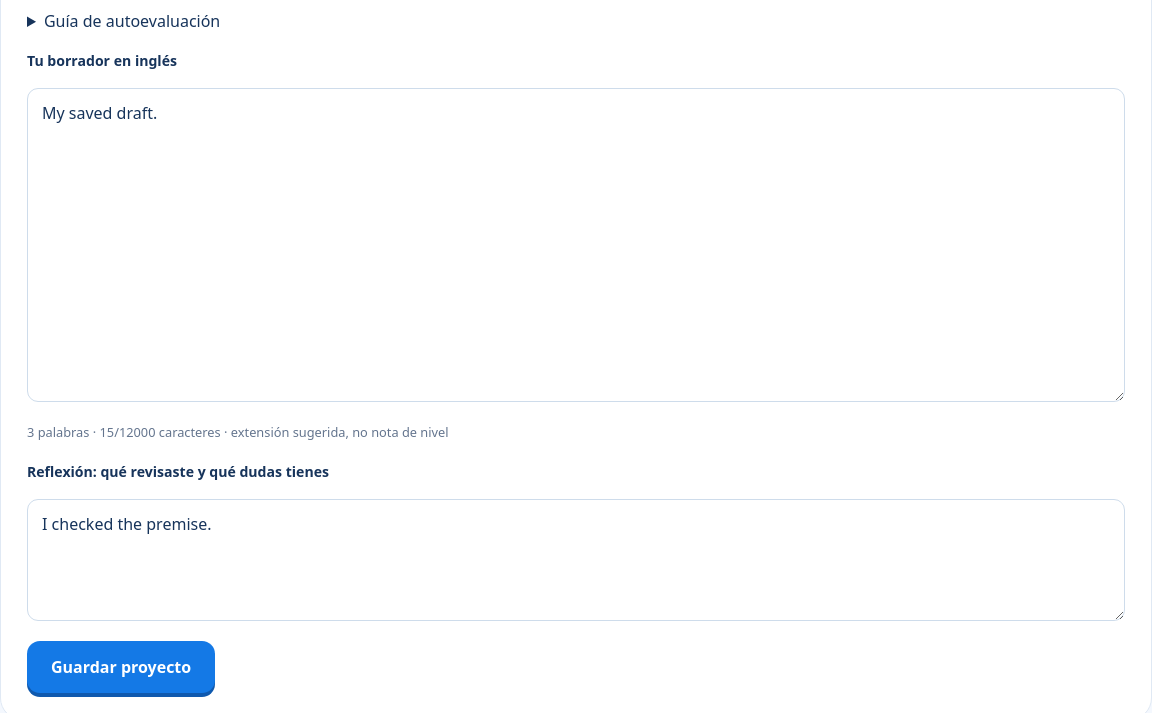
Test: does not pretend a failed project save succeeded
(page scrolled)
Click the button "Guardar proyecto": (121, 667) [27,641,215,693]
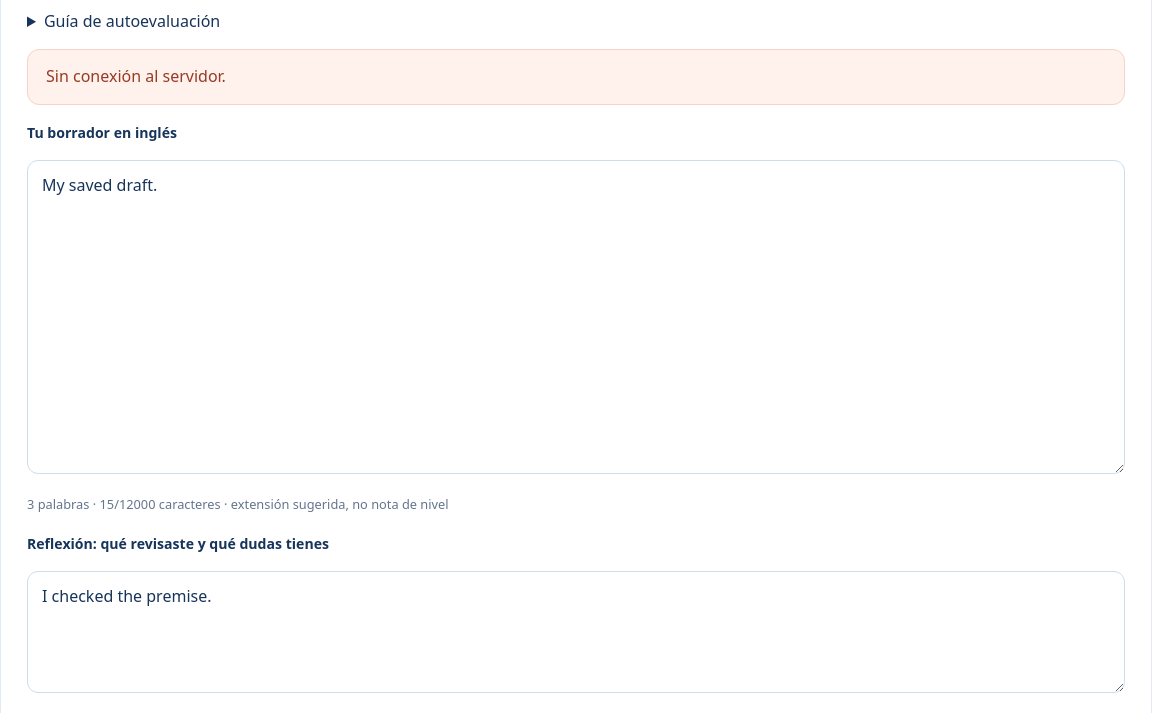
Expected: the text box labelled "Tu borrador en inglés" holds "My saved draft.", [27,160,1125,474]
Now the message reads "Sin conexión al servidor.", box [46,65,226,87]
